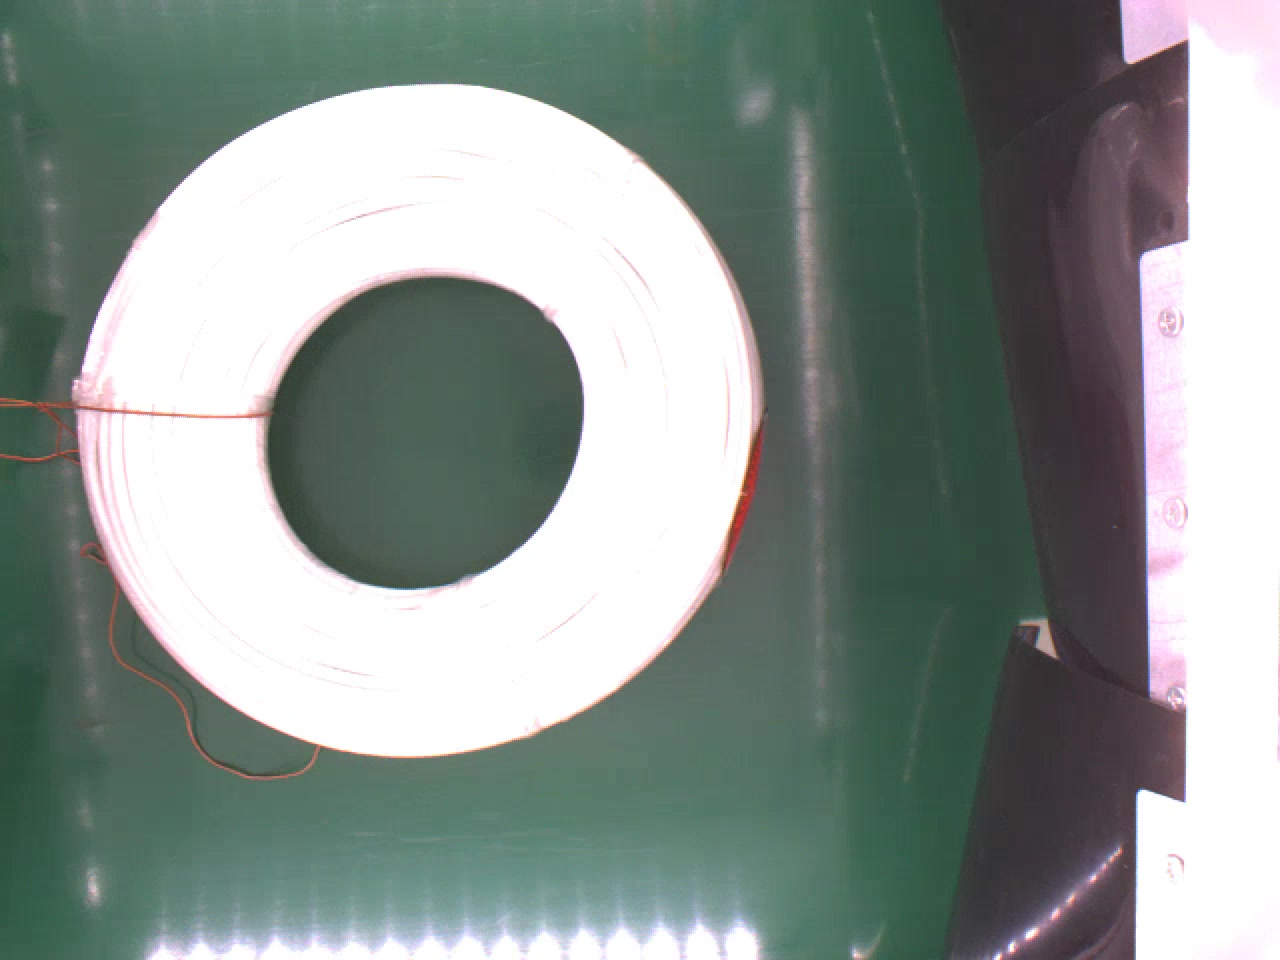white: (73, 83, 765, 755)
